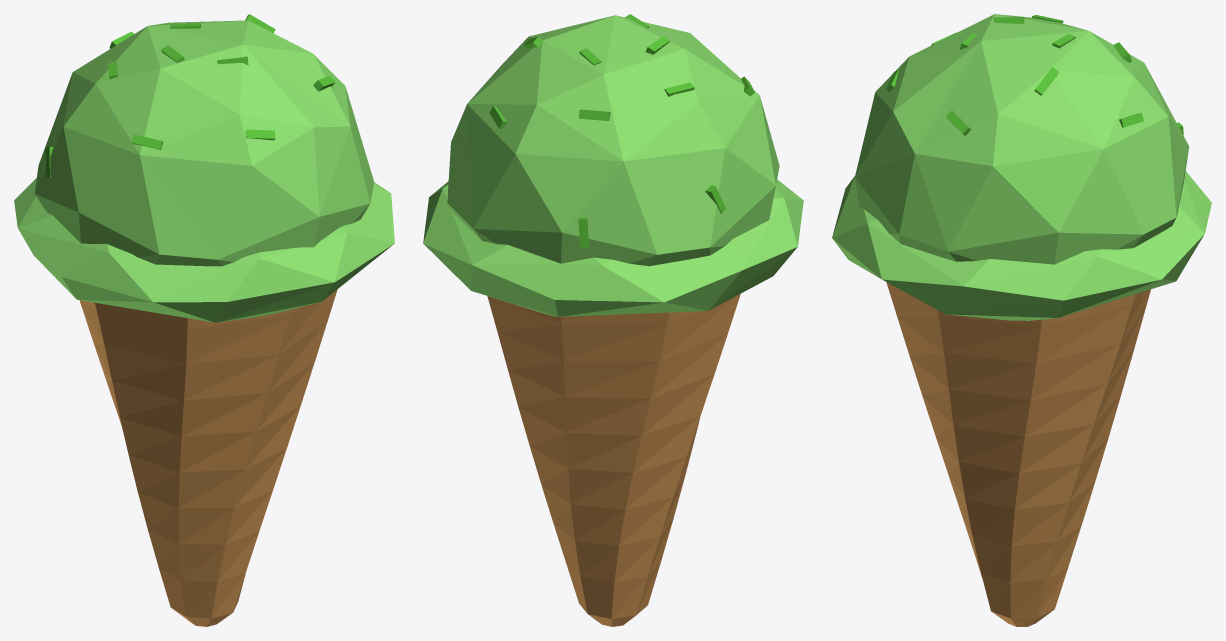
File: IceCream_1.obj
3 views of the same model, side by side, from view 1: azimuth 30°, elevation 25°; view 2: azimuth 150°, elevation 25°; view 3: azimuth 270°, elevation 25° (orthographic).
Visible parts, largest first — view 1: IceCream_1_PaleGreen, IceCream_1_LightYellow, IceCream_1_LightGreen; view 2: IceCream_1_PaleGreen, IceCream_1_LightYellow, IceCream_1_LightGreen; view 3: IceCream_1_PaleGreen, IceCream_1_LightYellow, IceCream_1_LightGreen.
Boxes of the visible parts, bbox=[...] form: IceCream_1_PaleGreen: bbox=[14, 20, 394, 322]; IceCream_1_LightYellow: bbox=[79, 289, 337, 626]; IceCream_1_LightGreen: bbox=[45, 14, 335, 177]; IceCream_1_PaleGreen: bbox=[423, 15, 803, 316]; IceCream_1_LightYellow: bbox=[487, 294, 740, 626]; IceCream_1_LightGreen: bbox=[489, 14, 754, 248]; IceCream_1_PaleGreen: bbox=[832, 14, 1211, 320]; IceCream_1_LightYellow: bbox=[886, 282, 1150, 626]; IceCream_1_LightGreen: bbox=[885, 15, 1183, 135].
Size of the model in its own units: 0.7006 by 1.2 by 0.7006.
